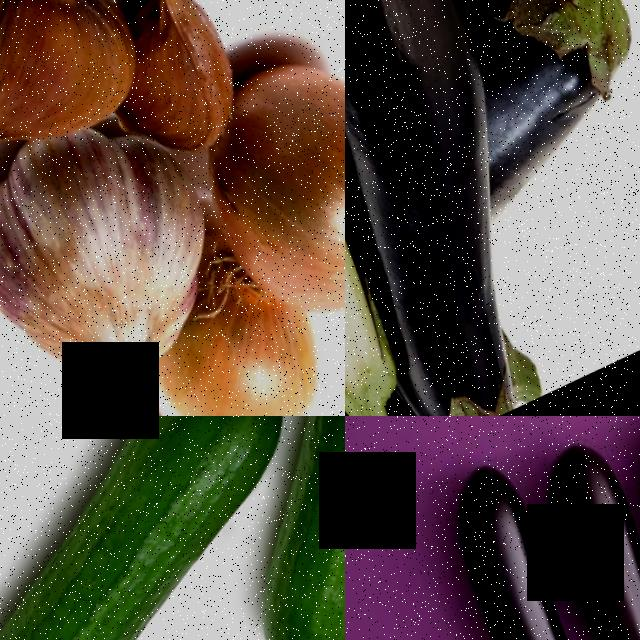cucumber: (0, 416, 264, 640), (195, 471, 345, 640), (266, 416, 345, 640)
eggplant: (345, 0, 622, 416), (412, 0, 640, 194), (414, 445, 640, 640), (345, 0, 431, 416), (508, 420, 640, 640)
garlic: (0, 108, 228, 416), (0, 0, 147, 185), (107, 0, 255, 170)
